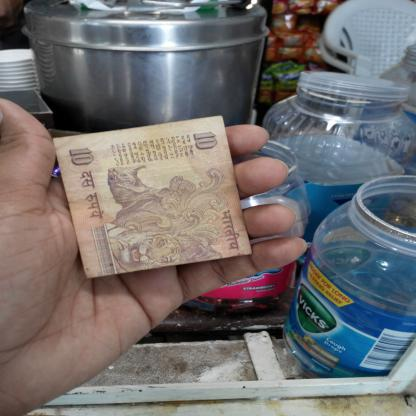Old10Back: (53, 115, 254, 280)
